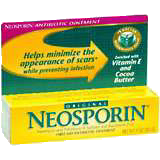grozi_19: (0, 15, 160, 144)
